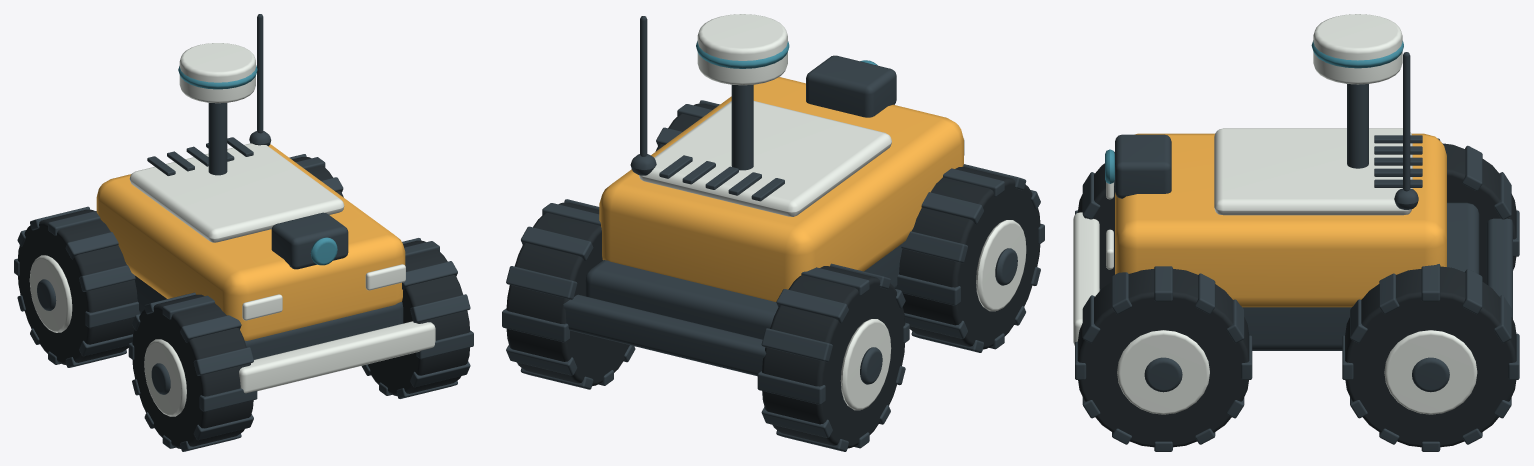
File: rover.glb
3 views of the same model, side by side, from view 1: azimuth 30°, elevation 25°; view 2: azimuth 150°, elevation 25°; view 3: azimuth 270°, elevation 25° (orthographic). The views are drawn at different scales.
Visible parts, largest first — view 1: Shell, TopCover, Tire_LB, Tire_LF, FrontBumper, Tire_RF, Chassis, LidarHousing, CameraHousing, Hub_LB, Hub_LF, SensorMast (+21 smaller); view 2: Shell, TopCover, Tire_LB, Tire_LF, Tire_RB, Chassis, RearBumper, LidarHousing, CameraHousing, Hub_LF, Hub_LB, SensorMast (+19 smaller); view 3: Shell, Tire_RB, Tire_RF, TopCover, Chassis, Hub_RB, Hub_RF, LidarHousing, CameraHousing, Tire_LB, FrontBumper, RearBumper (+19 smaller).
Part boxes in pixels (left/top/right/bottom): Shell: left=96, top=144, right=405, bottom=340; TopCover: left=129, top=143, right=344, bottom=242; Tire_LB: left=17, top=209, right=137, bottom=365; Tire_LF: left=132, top=294, right=253, bottom=448; FrontBumper: left=239, top=321, right=435, bottom=393; Tire_RF: left=367, top=240, right=470, bottom=396; Chassis: left=135, top=275, right=403, bottom=359; LidarHousing: left=179, top=43, right=255, bottom=103; CameraHousing: left=271, top=212, right=348, bottom=269; Hub_LB: left=29, top=255, right=72, bottom=332; Hub_LF: left=144, top=339, right=186, bottom=416; SensorMast: left=208, top=103, right=227, bottom=175; Shell: left=599, top=77, right=963, bottom=301; TopCover: left=639, top=101, right=891, bottom=216; Tire_LB: left=762, top=266, right=905, bottom=448; Tire_LF: left=899, top=166, right=1040, bottom=349; Tire_RB: left=506, top=202, right=629, bottom=386; Chassis: left=585, top=244, right=902, bottom=339; RearBumper: left=563, top=294, right=766, bottom=376; LidarHousing: left=697, top=14, right=787, bottom=85; CameraHousing: left=806, top=55, right=896, bottom=117; Hub_LF: left=976, top=220, right=1026, bottom=311; Hub_LB: left=840, top=319, right=891, bottom=410; SensorMast: left=731, top=85, right=753, bottom=170; Shell: left=1115, top=133, right=1446, bottom=307; Tire_RB: left=1345, top=266, right=1516, bottom=447; Tire_RF: left=1077, top=269, right=1249, bottom=447; TopCover: left=1214, top=128, right=1412, bottom=215; Chassis: left=1243, top=202, right=1479, bottom=350; Hub_RB: left=1384, top=330, right=1477, bottom=414; Hub_RF: left=1117, top=330, right=1209, bottom=414; LidarHousing: left=1313, top=14, right=1402, bottom=84; CameraHousing: left=1115, top=134, right=1171, bottom=198; Tire_LB: left=1442, top=143, right=1516, bottom=284; FrontBumper: left=1073, top=212, right=1099, bottom=345; RearBumper: left=1486, top=218, right=1512, bottom=318.
Bounding box in the file's own units: 0.952 × 0.979 × 1.1.
